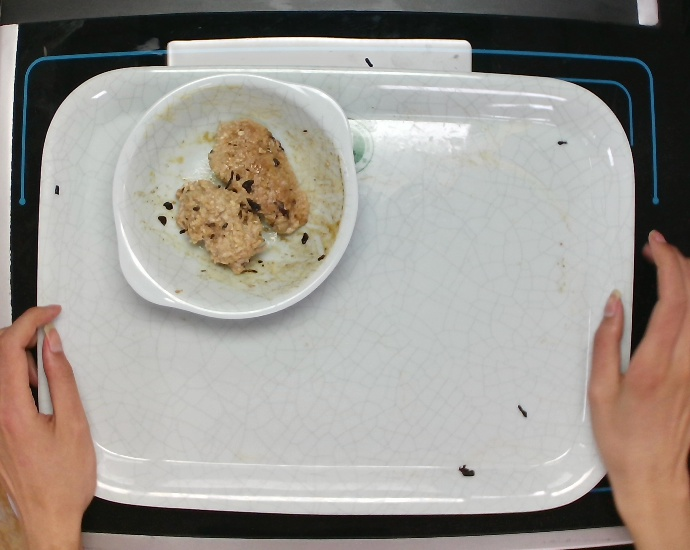JYsf-Shuang_Er_Wan: (110, 71, 360, 322)
